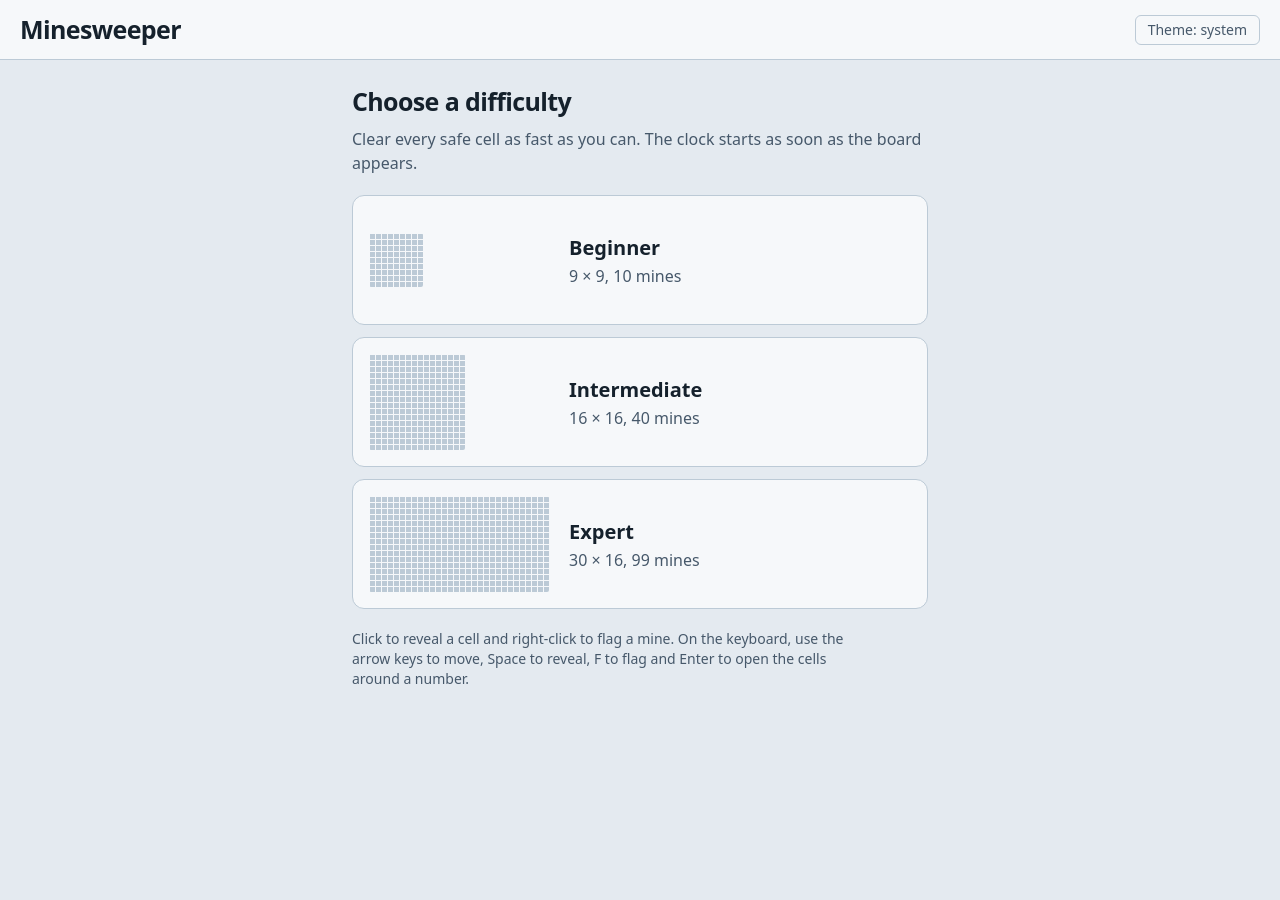
Test: App shell › cycles the theme from the header button: system, light, dark, system
Click the button "Theme: system" at (1197, 30), box top-left (1135, 14), bottom-right (1260, 44)
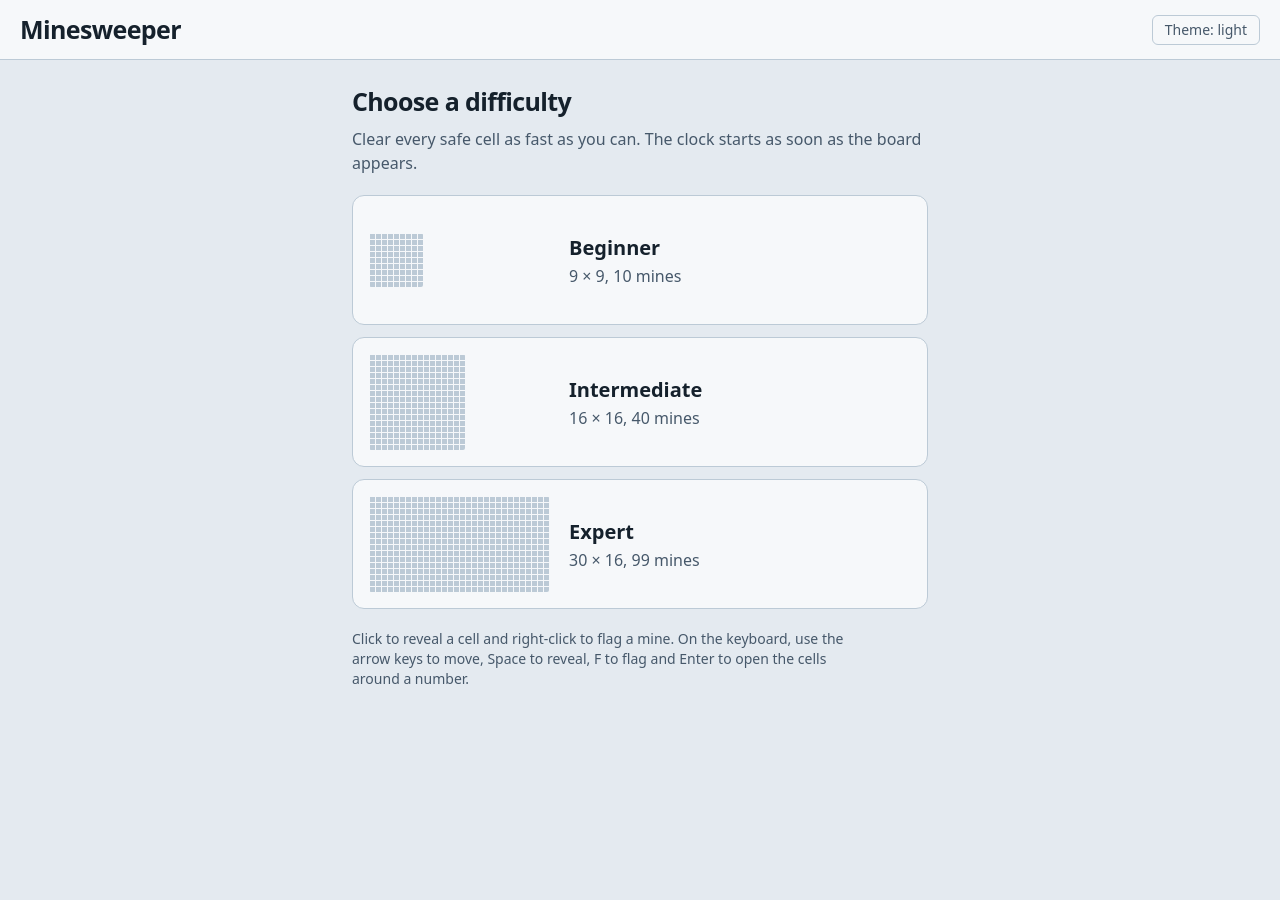
Check: the button "Theme: light" is shown
Click the button "Theme: light" at (1206, 30), box top-left (1152, 14), bottom-right (1260, 44)
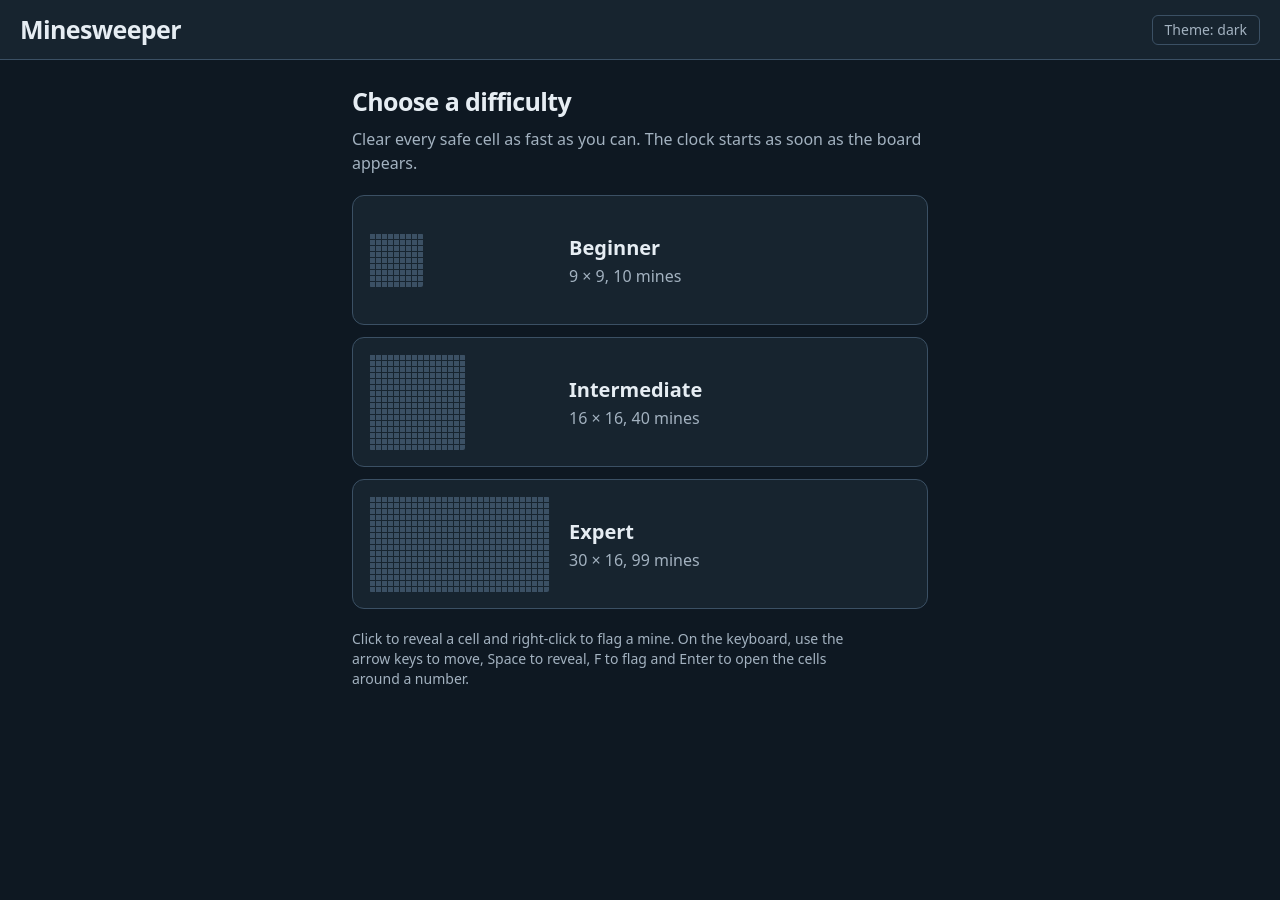
Check: the button "Theme: dark" is shown
Click the button "Theme: dark" at (1206, 30), box top-left (1152, 14), bottom-right (1260, 44)
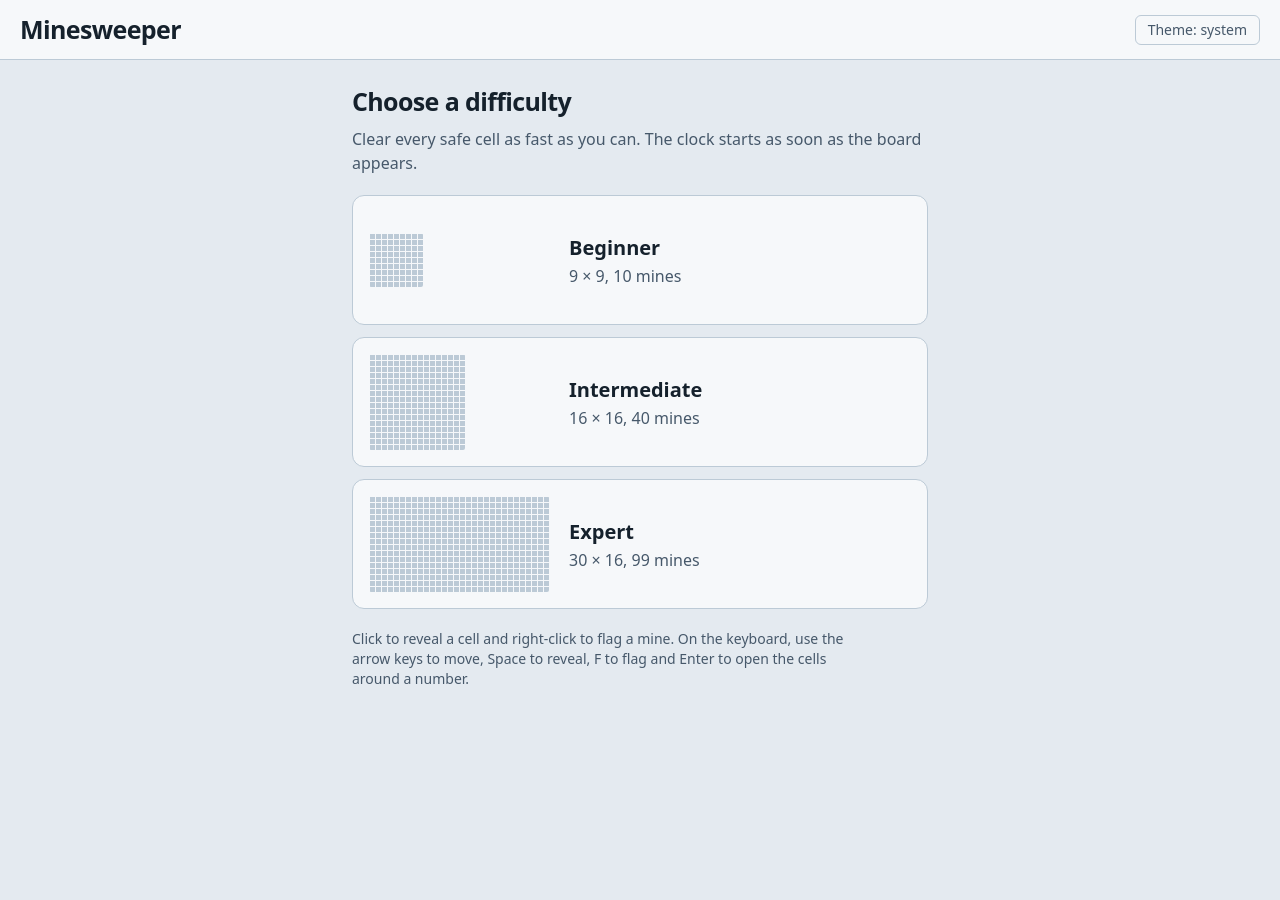
Check: the button "Theme: system" is shown, box top-left (1135, 14), bottom-right (1260, 44)
